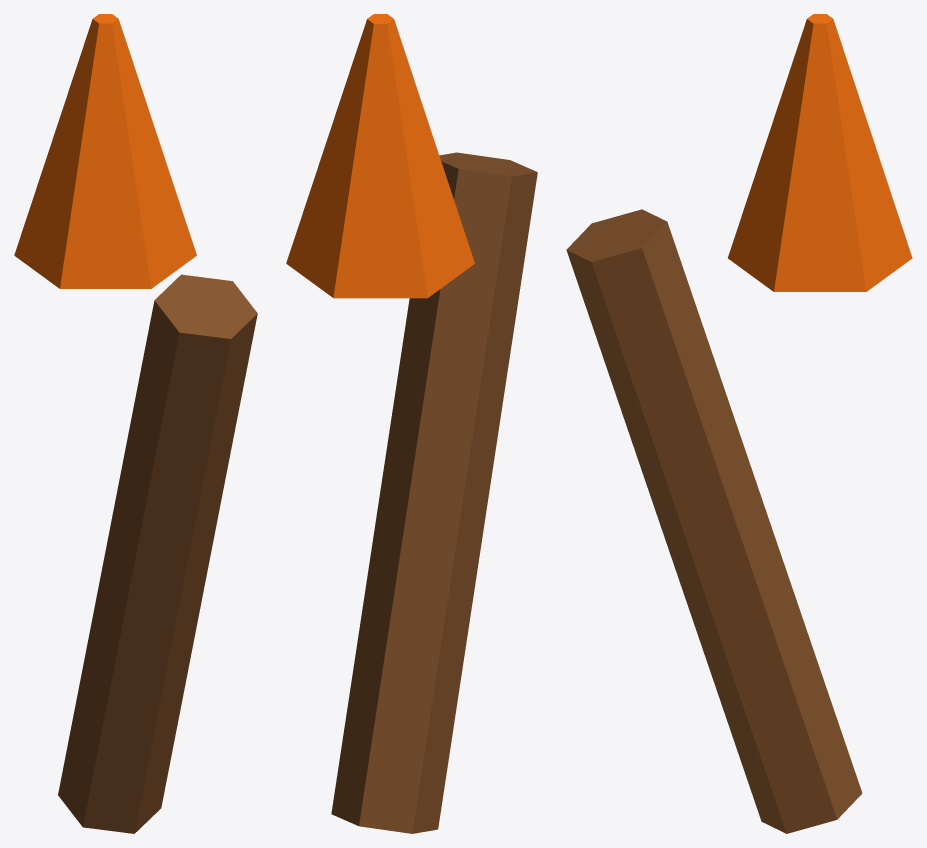
Rendered from wall_torch.glb.
3 views of the same model, side by side, from view 1: azimuth 30°, elevation 25°; view 2: azimuth 150°, elevation 25°; view 3: azimuth 270°, elevation 25° (orthographic). The views are drawn at different scales.
Parts seen in each view (by area): view 1: wall_torch; view 2: wall_torch; view 3: wall_torch.
Part boxes in pixels (bbox=[...]): wall_torch: bbox=[14, 14, 257, 833]; wall_torch: bbox=[286, 14, 537, 833]; wall_torch: bbox=[566, 14, 912, 833].
Bounding box in the file's own units: 0.1212 × 0.6707 × 0.2621.
